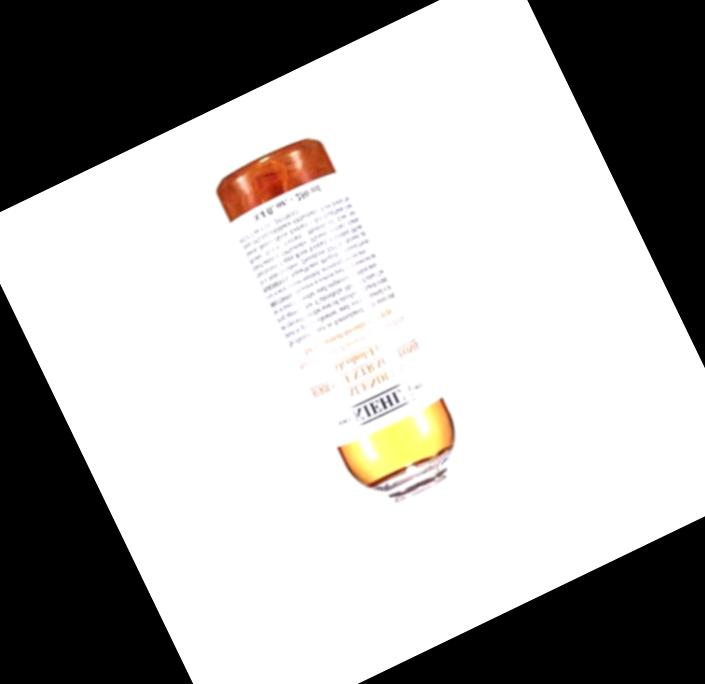cosmetic: (209, 128, 510, 584)
